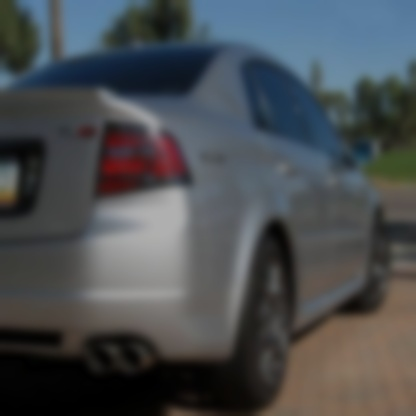Vehicle: (1, 42, 392, 413)
